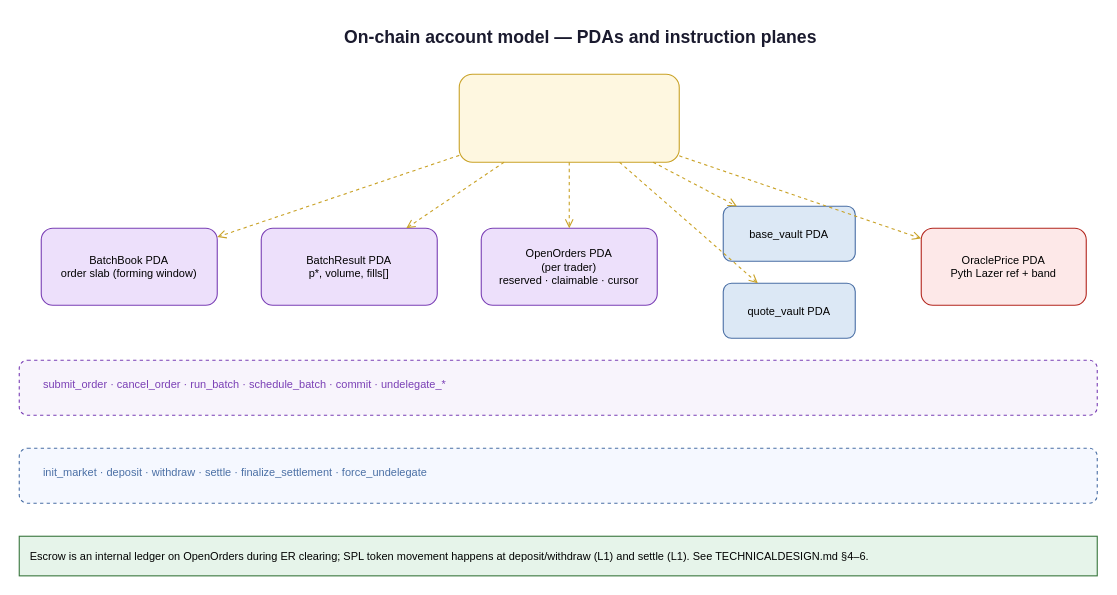
The diagram is 1117 pixels wide and 595 high, and some of its shapes have lost their labels. The shapes that lost their labels are listed below. From the top down, each one's box as (x1, y1, x2, y2) in pixels, then its label:
(458, 73, 679, 162): Market PDA config · status · crank_authority window · CFMM reserves
(18, 359, 1097, 415): Delegated to ER
(18, 447, 1097, 503): Canonical on L1
